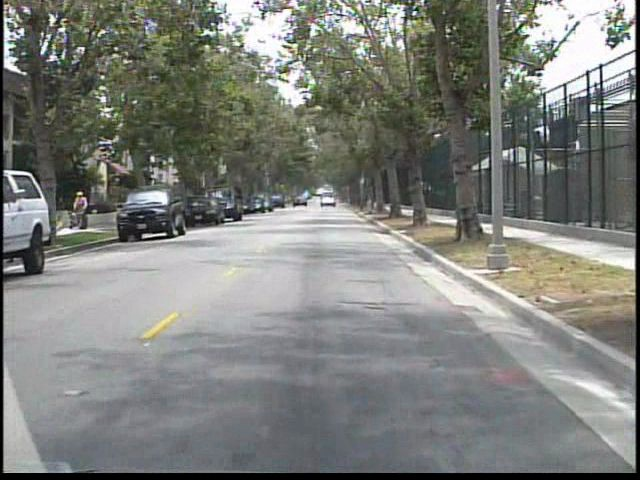person: (75, 192, 96, 233)
